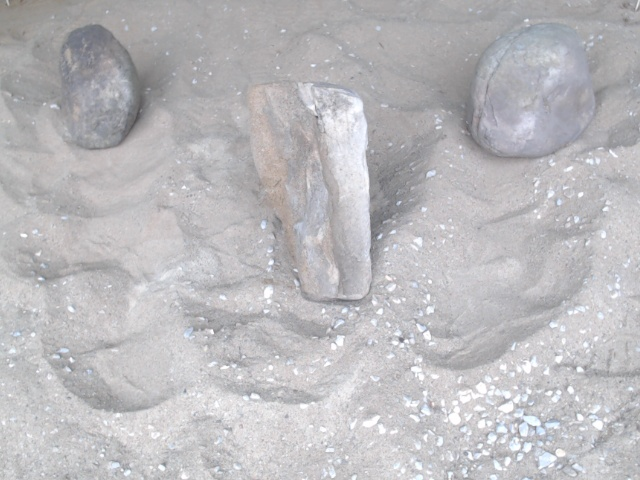rock: (241, 74, 379, 307), (459, 16, 600, 165), (53, 20, 145, 155)
